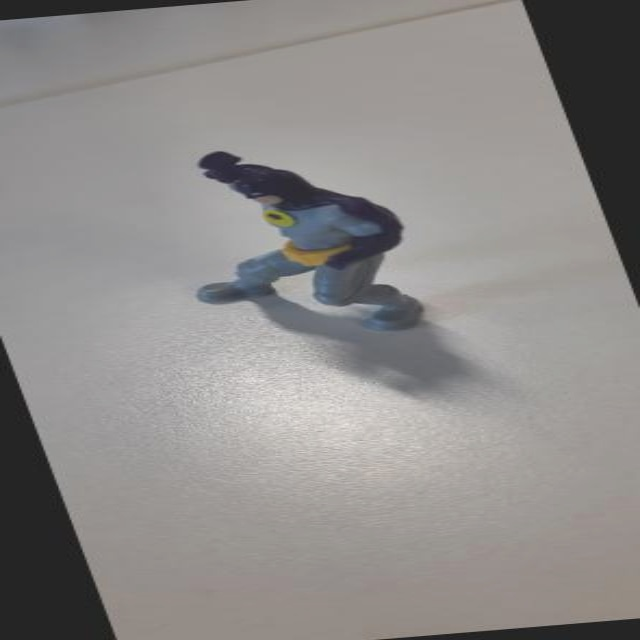Batman: (140, 123, 470, 349)
